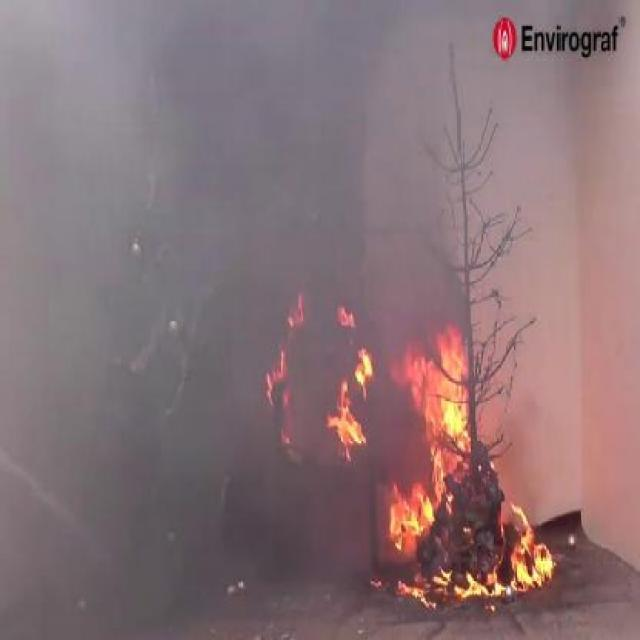fire: (312, 293, 551, 573)
smoke: (8, 2, 294, 601), (243, 29, 625, 246)
